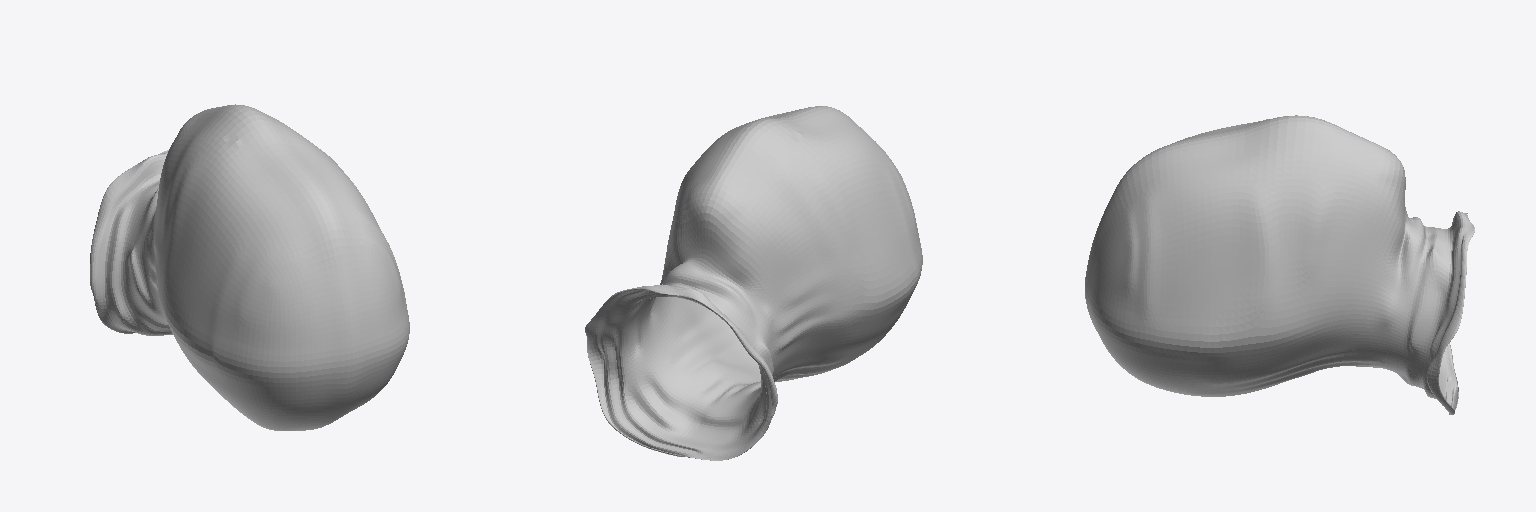
Rendered from full.obj.
The picture shows the model from 3 angles: view 1: azimuth 30°, elevation 25°; view 2: azimuth 150°, elevation 25°; view 3: azimuth 270°, elevation 25°; orthographic projection.
Parts seen in each view (by area): view 1: OldLHood:1; view 2: OldLHood:1; view 3: OldLHood:1.
Boxes of the visible parts, <box> form: OldLHood:1: <box>90,104,409,430</box>; OldLHood:1: <box>585,106,922,460</box>; OldLHood:1: <box>1085,115,1474,414</box>.
Bounding box in the file's own units: 13.58 × 17.67 × 22.61.